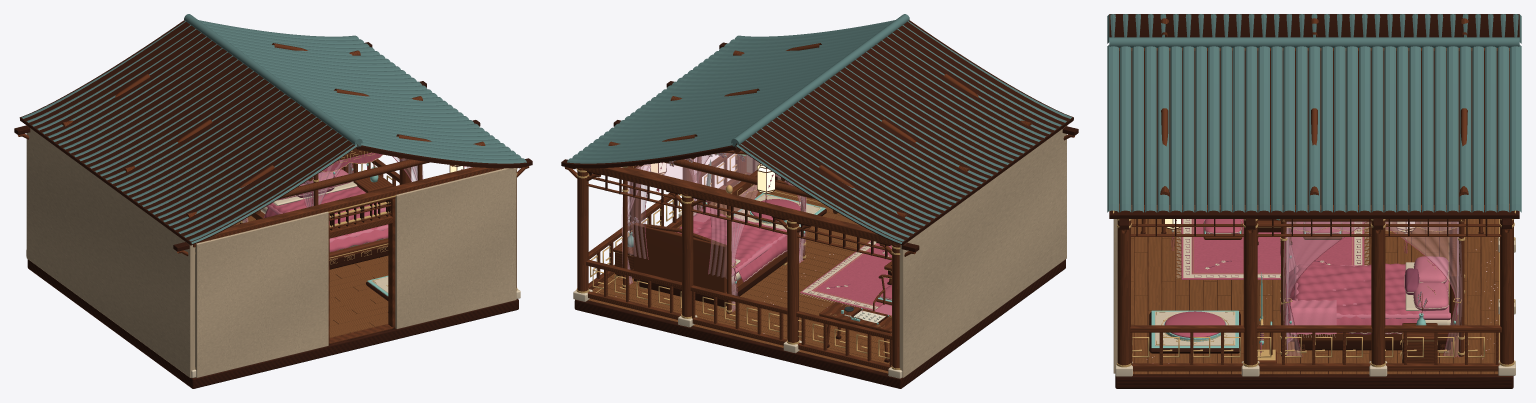
Rendered from dream_bedroom_3.glb.
The picture shows the model from 3 angles, left to right: view 1: azimuth 30°, elevation 25°; view 2: azimuth 150°, elevation 25°; view 3: azimuth 270°, elevation 25°; orthographic projection. The views are drawn at different scales.
Visible parts, largest first — view 1: CEILING_GEOMETRY, WALL_SOUTH_GEOMETRY, WALL_WEST_GEOMETRY, FLOOR_GEOMETRY, FURN_BED_GEOMETRY, WALL_EAST_GEOMETRY, FURN_NIGHTSTAND_GEOMETRY; view 2: CEILING_GEOMETRY, WALL_WEST_GEOMETRY, WALL_NORTH_GEOMETRY, FLOOR_GEOMETRY, FURN_BED_GEOMETRY, FURN_RUG_GEOMETRY, WALL_EAST_GEOMETRY, FURN_DESK_GEOMETRY, FURN_MEDITATION_GEOMETRY, FURN_NIGHTSTAND_GEOMETRY; view 3: CEILING_GEOMETRY, FLOOR_GEOMETRY, WALL_EAST_GEOMETRY, FURN_BED_GEOMETRY, FURN_RUG_GEOMETRY, FURN_MEDITATION_GEOMETRY, WALL_NORTH_GEOMETRY, FURN_NIGHTSTAND_GEOMETRY, WALL_SOUTH_GEOMETRY, FURN_TEA_CUSHION_SOUTH_GEOMETRY, FURN_TEA_CUSHION_NORTH_GEOMETRY.
Part boxes in pixels (x1=…): CEILING_GEOMETRY: x1=19, y1=14, x2=526, y2=245; WALL_SOUTH_GEOMETRY: x1=193, y1=167, x2=517, y2=377; WALL_WEST_GEOMETRY: x1=26, y1=128, x2=196, y2=377; FLOOR_GEOMETRY: x1=27, y1=216, x2=518, y2=388; FURN_BED_GEOMETRY: x1=239, y1=150, x2=423, y2=269; WALL_EAST_GEOMETRY: x1=354, y1=81, x2=532, y2=298; FURN_NIGHTSTAND_GEOMETRY: x1=353, y1=159, x2=393, y2=204; CEILING_GEOMETRY: x1=567, y1=14, x2=1073, y2=245; WALL_WEST_GEOMETRY: x1=899, y1=126, x2=1078, y2=377; WALL_NORTH_GEOMETRY: x1=561, y1=159, x2=919, y2=378; FLOOR_GEOMETRY: x1=574, y1=184, x2=1065, y2=388; FURN_BED_GEOMETRY: x1=621, y1=153, x2=806, y2=313; FURN_RUG_GEOMETRY: x1=800, y1=240, x2=891, y2=310; WALL_EAST_GEOMETRY: x1=588, y1=42, x2=746, y2=289; FURN_DESK_GEOMETRY: x1=819, y1=302, x2=891, y2=362; FURN_MEDITATION_GEOMETRY: x1=733, y1=193, x2=826, y2=232; FURN_NIGHTSTAND_GEOMETRY: x1=613, y1=214, x2=638, y2=281; CEILING_GEOMETRY: x1=1107, y1=14, x2=1521, y2=253; FLOOR_GEOMETRY: x1=1115, y1=219, x2=1513, y2=388; WALL_EAST_GEOMETRY: x1=1115, y1=205, x2=1509, y2=376; FURN_BED_GEOMETRY: x1=1279, y1=219, x2=1465, y2=357; FURN_RUG_GEOMETRY: x1=1176, y1=219, x2=1368, y2=279; FURN_MEDITATION_GEOMETRY: x1=1149, y1=310, x2=1240, y2=353; WALL_NORTH_GEOMETRY: x1=1498, y1=203, x2=1515, y2=375; FURN_NIGHTSTAND_GEOMETRY: x1=1400, y1=291, x2=1437, y2=363; WALL_SOUTH_GEOMETRY: x1=1113, y1=203, x2=1119, y2=373; FURN_TEA_CUSHION_SOUTH_GEOMETRY: x1=1203, y1=219, x2=1242, y2=239; FURN_TEA_CUSHION_NORTH_GEOMETRY: x1=1303, y1=222, x2=1342, y2=239.
Size of the model in its own units: 8.9 by 5.09 by 7.47.
27 materials, 8 textured.
